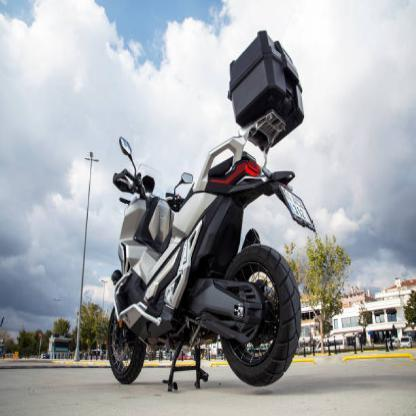Motorcycle: (100, 66, 306, 384)
